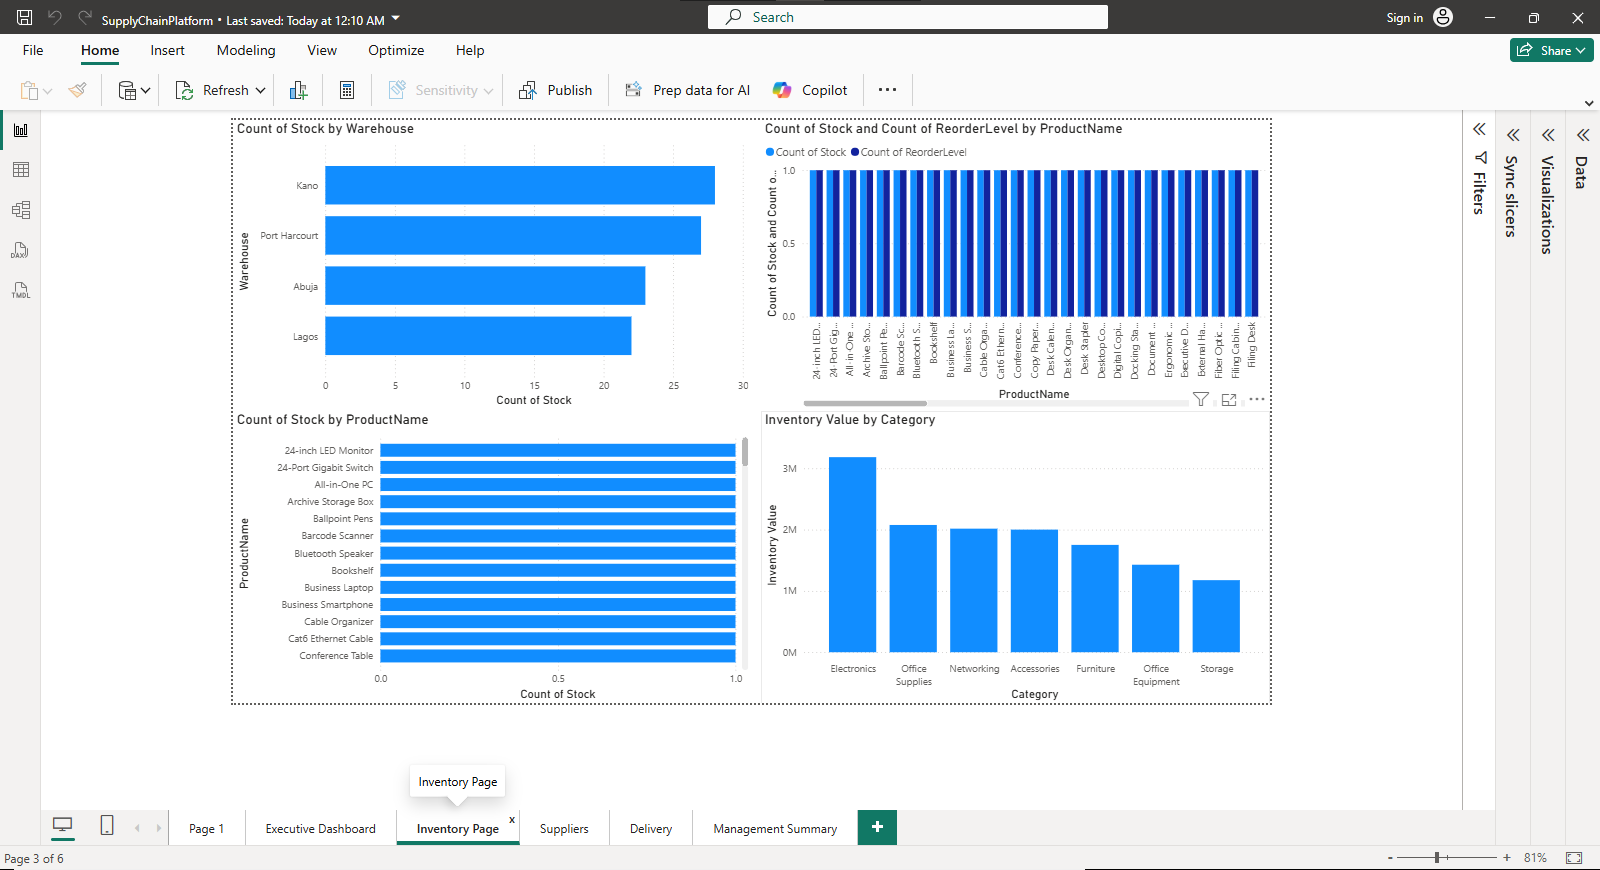

The page's visual inventory and layout, read from the dashboard file:
{"tool":"powerbi","page":{"name":"Inventory Page","canvas":[1280,720],"ordinal":2},"visuals":[{"type":"clusteredBarChart","fields":{"Category":["Inventory.Warehouse"],"Y":["CountNonNull(Inventory.Stock)"]},"box":[0,0,641.4,359.1],"z":0},{"type":"clusteredBarChart","fields":{"Category":["Inventory.ProductName"],"Y":["CountNonNull(Inventory.Stock)"]},"box":[0,359.1,641.4,361.8],"z":1},{"type":"clusteredColumnChart","fields":{"Category":["Inventory.ProductName"],"Y":["CountNonNull(Inventory.Stock)","CountNonNull(Inventory.ReorderLevel)"]},"box":[652.3,0,627.7,359.1],"z":2},{"type":"clusteredColumnChart","fields":{"Category":["Inventory.Category"],"Y":["Orders.Inventory Value"]},"box":[652.3,359.1,627.7,361.8],"z":3}]}

Visuals, with their boxes on the page's 1280x720 design canvas (x1, y1, x2, y2). These are canvas units, not pixel positions in the 1600x870 screenshot, which may show the page scaled, cropped or inside an application window:
clusteredBarChart - Inventory.Warehouse x CountNonNull(Inventory.Stock): bbox=[0, 0, 641, 359]
clusteredBarChart - Inventory.ProductName x CountNonNull(Inventory.Stock): bbox=[0, 359, 641, 721]
clusteredColumnChart - Inventory.ProductName x CountNonNull(Inventory.Stock): bbox=[652, 0, 1280, 359]
clusteredColumnChart - Inventory.Category x Orders.Inventory Value: bbox=[652, 359, 1280, 721]
